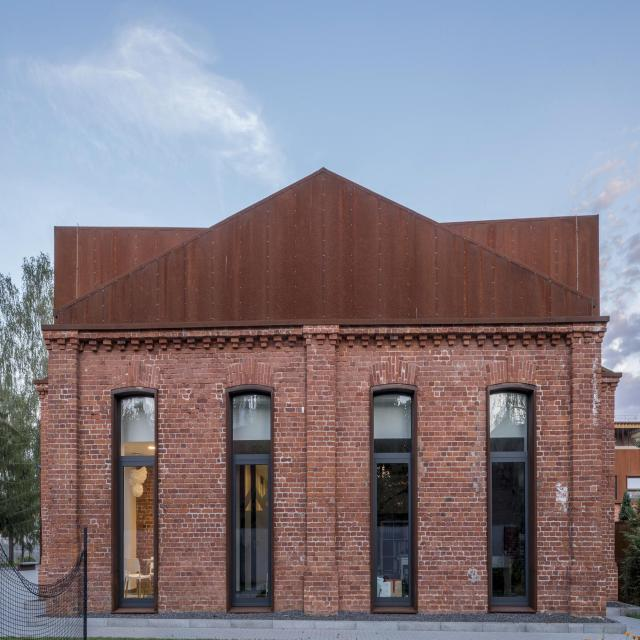window: (373, 452, 414, 609), (116, 455, 156, 612), (232, 456, 272, 613), (491, 452, 531, 609)
